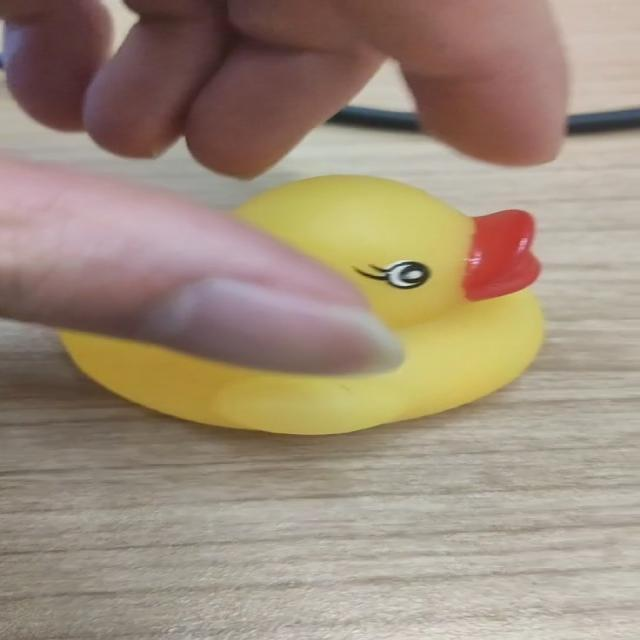rubber-duck: (61, 175, 541, 432)
